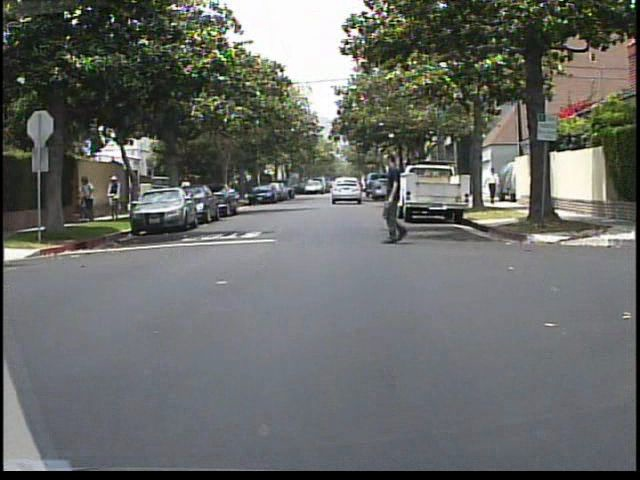person: (373, 147, 421, 247), (76, 173, 100, 224), (485, 166, 503, 207), (179, 174, 196, 211), (107, 173, 125, 199)
